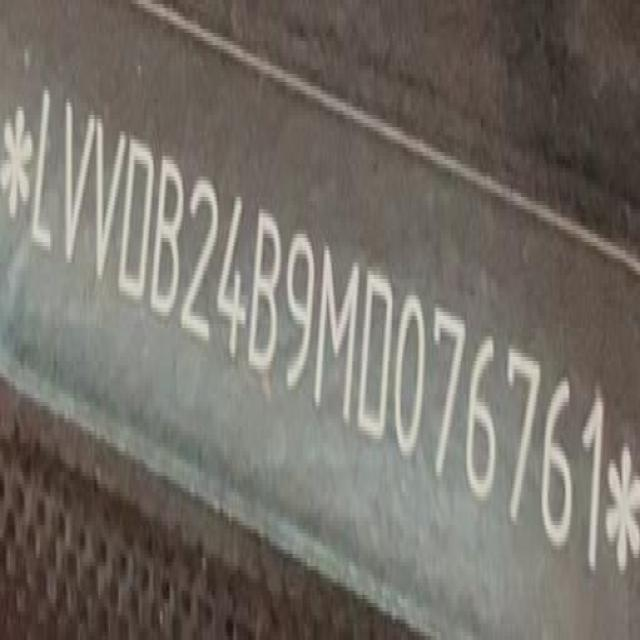0: (393, 273, 431, 470)
1: (580, 378, 604, 576)
2: (183, 166, 221, 350)
4: (215, 187, 251, 370)
6: (463, 317, 502, 514), (538, 360, 576, 560)
7: (428, 291, 466, 496), (506, 336, 543, 543)
9: (285, 214, 321, 408)
B: (250, 198, 286, 388), (148, 151, 184, 327)
D: (358, 259, 397, 452), (118, 127, 158, 308)
L: (29, 84, 66, 266)
M: (314, 228, 362, 430)
V: (88, 107, 127, 290), (58, 95, 96, 280)
